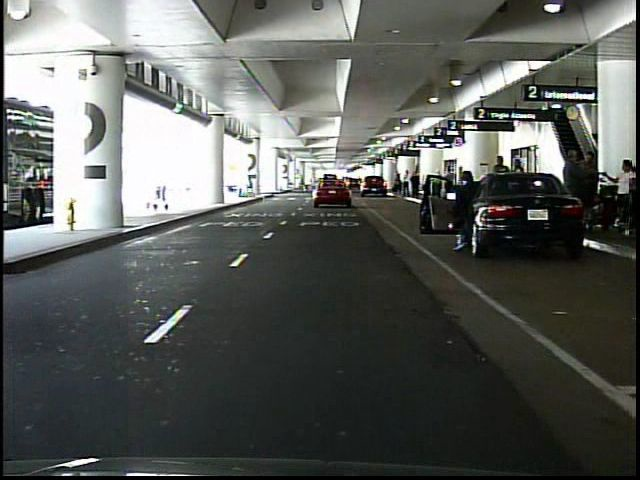person: (452, 162, 479, 256), (559, 146, 587, 227), (610, 160, 634, 232), (491, 154, 512, 217), (512, 158, 529, 215), (402, 169, 412, 199), (411, 171, 421, 200), (395, 174, 404, 197), (587, 147, 589, 229), (298, 176, 307, 193)
